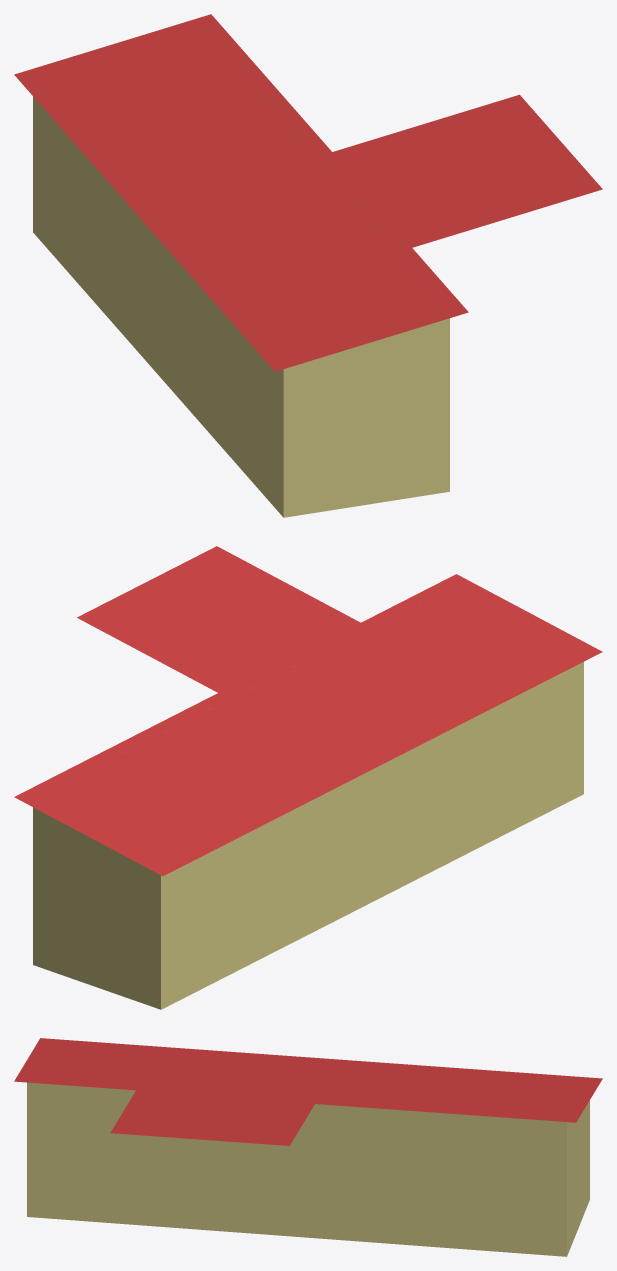
The picture shows the model from 3 angles, top to bottom: view 1: azimuth 30°, elevation 25°; view 2: azimuth 150°, elevation 25°; view 3: azimuth 270°, elevation 25°; orthographic projection. The views are drawn at different scales.
Size of the model in its own units: 16.02 by 26.29 by 7.93.
